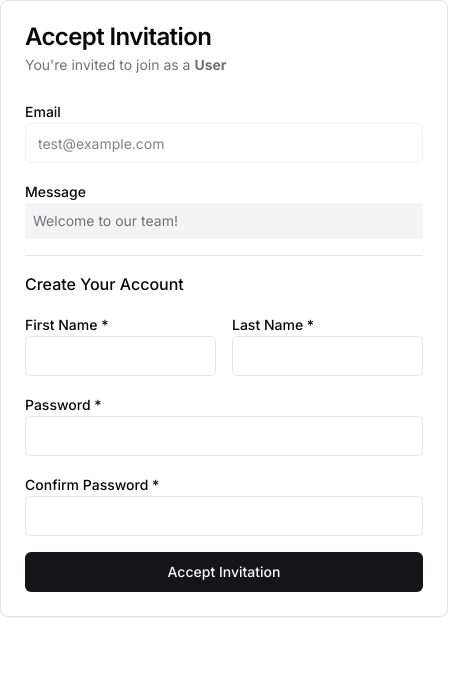
InvitationAcceptanceForm › validates password confirmation
In the field labelled "First Name *": (120, 356) [25,336,216,376], type "John"
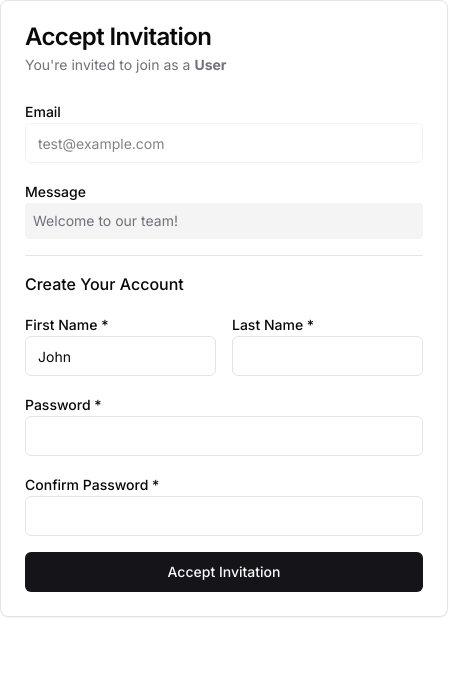
In the field labelled "Last Name *": (328, 356) [232,336,423,376], type "Doe"
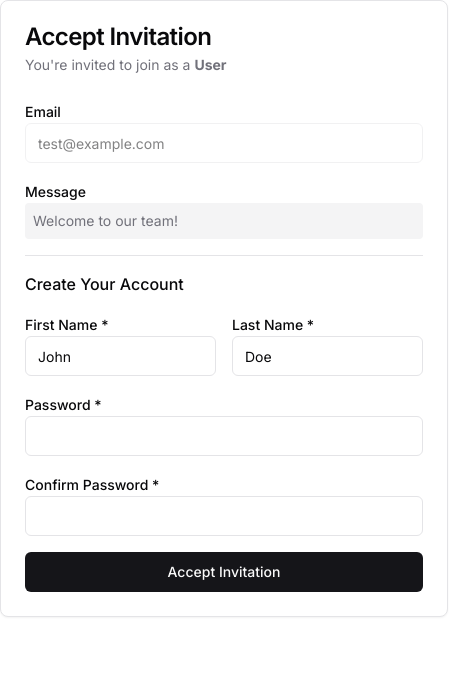
In the password field labelled "Password *": (224, 436) [25,416,423,456], type "password123"
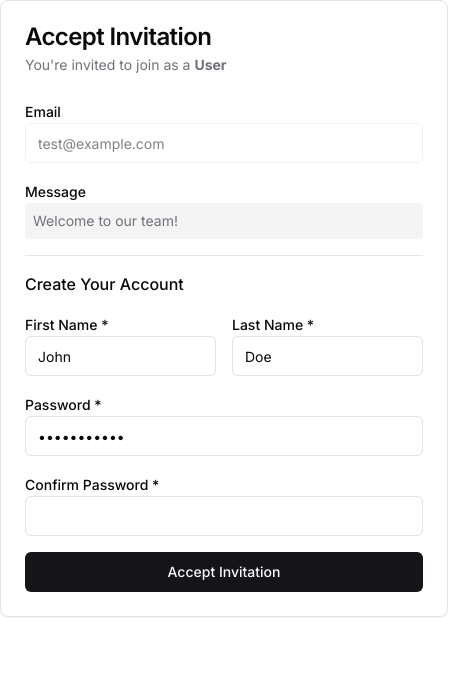
In the password field labelled "Confirm Password *": (224, 516) [25,496,423,536], type "different"
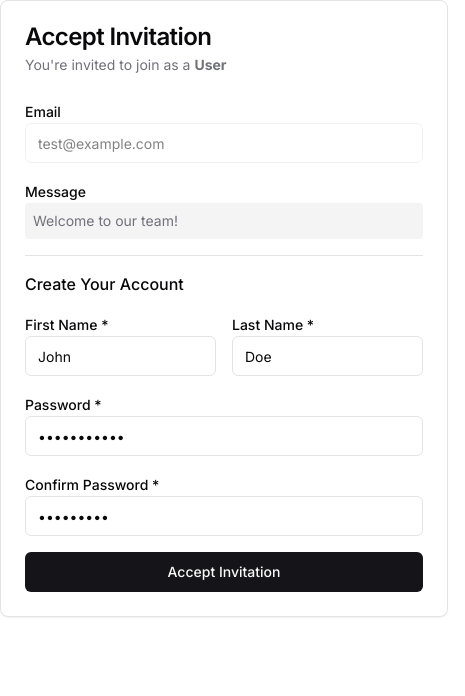
Click the button "Accept Invitation": (224, 572) [25,552,423,592]
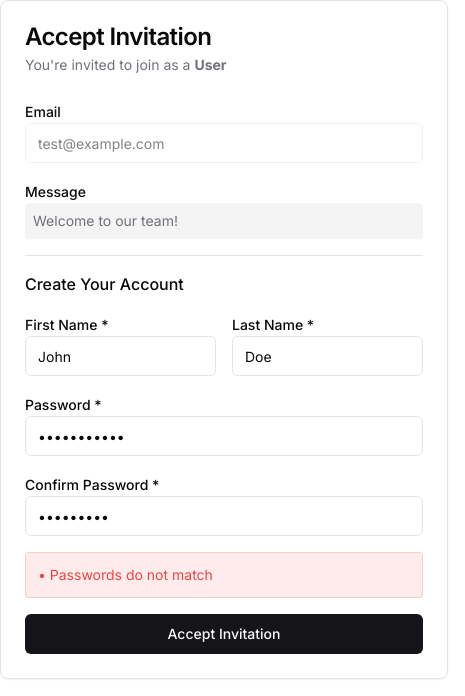
Check: the list item "• Passwords do not match" is shown, box [38,566,213,583]
